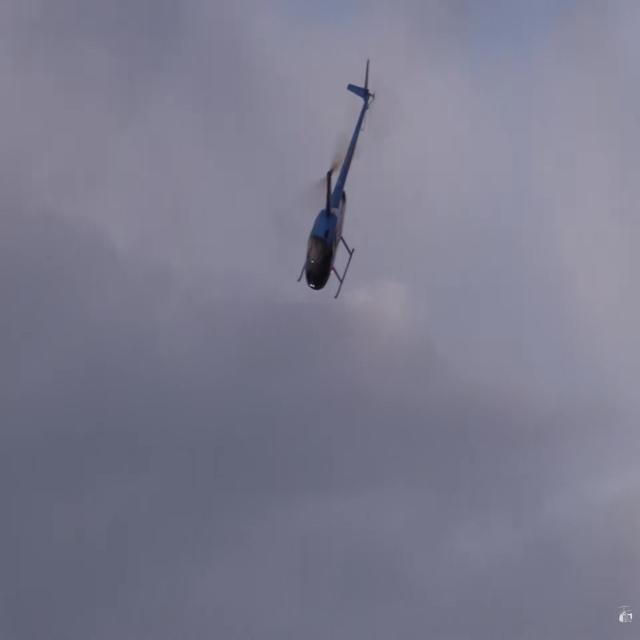CIV_HELO: (296, 58, 374, 301)
